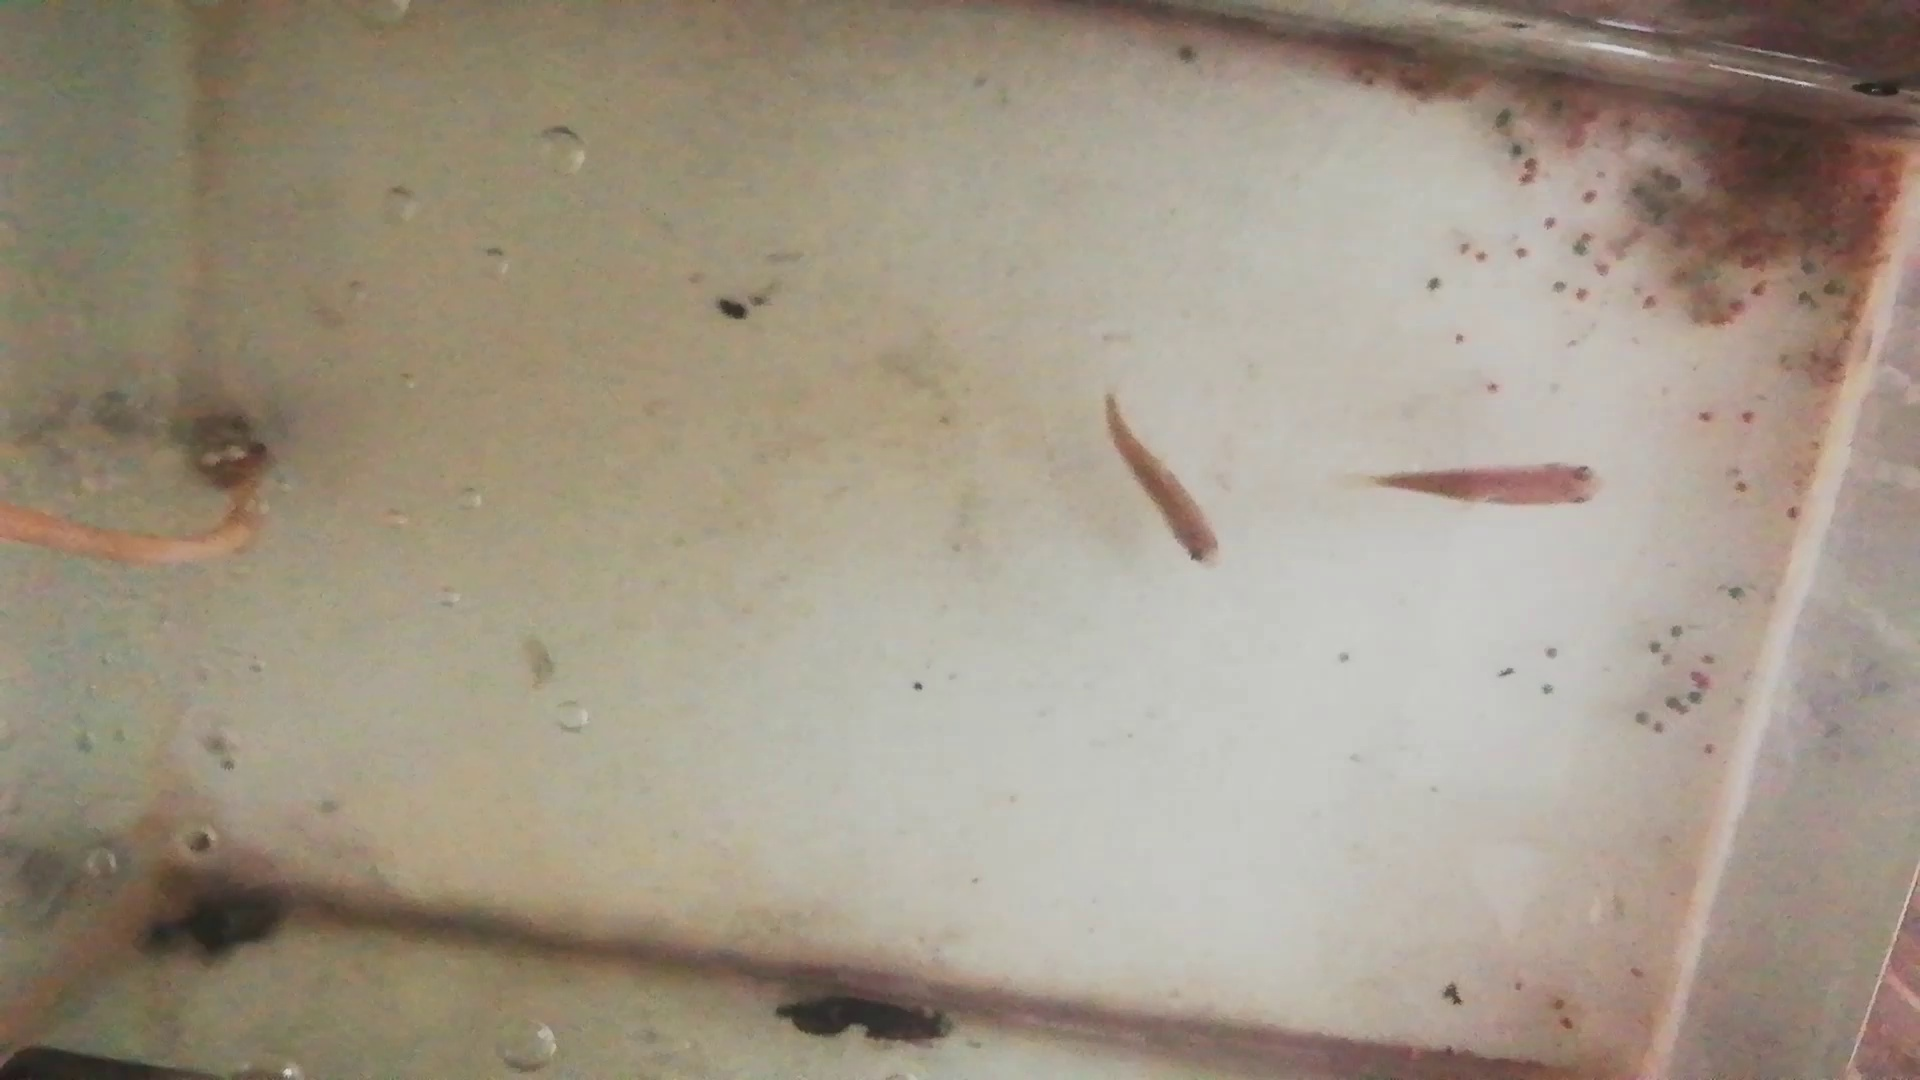fish: (1101, 388, 1232, 568), (1377, 463, 1607, 517)
